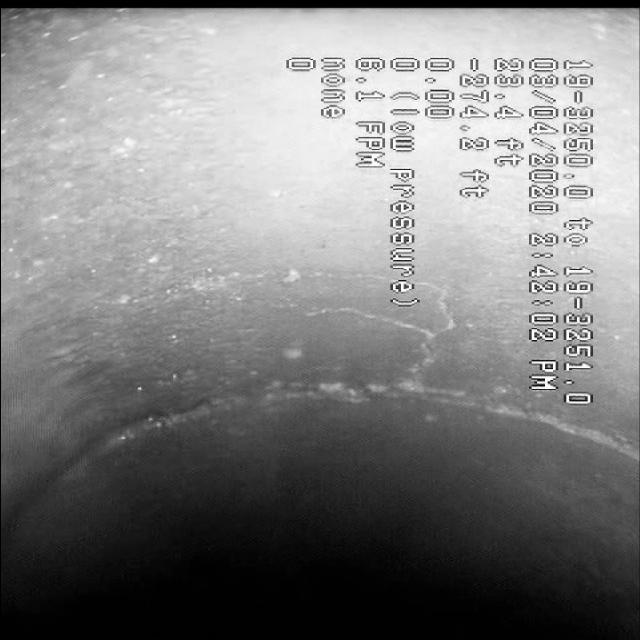Crack: (114, 238, 498, 370)
